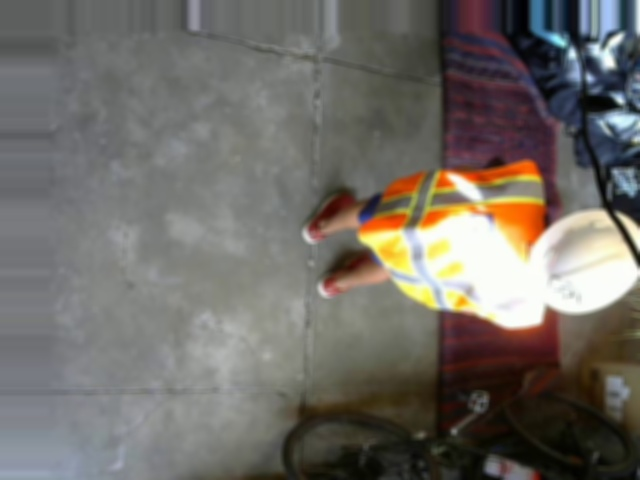eight: (546, 275, 581, 309)
